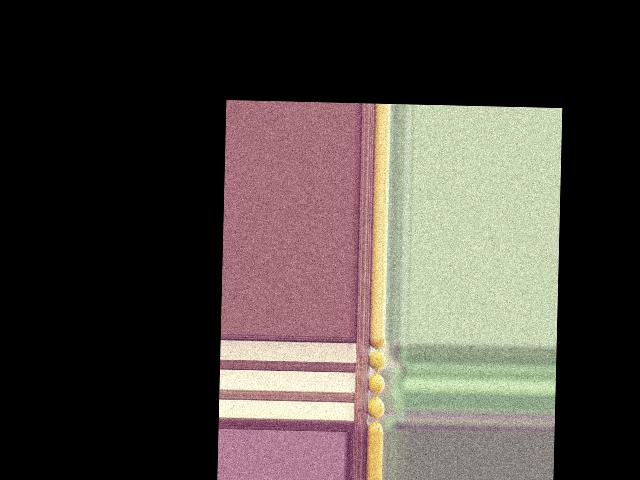lemon: (367, 421, 383, 432)
